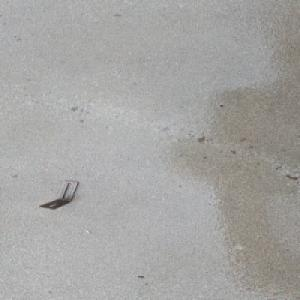MetalPart: (38, 179, 80, 209)
